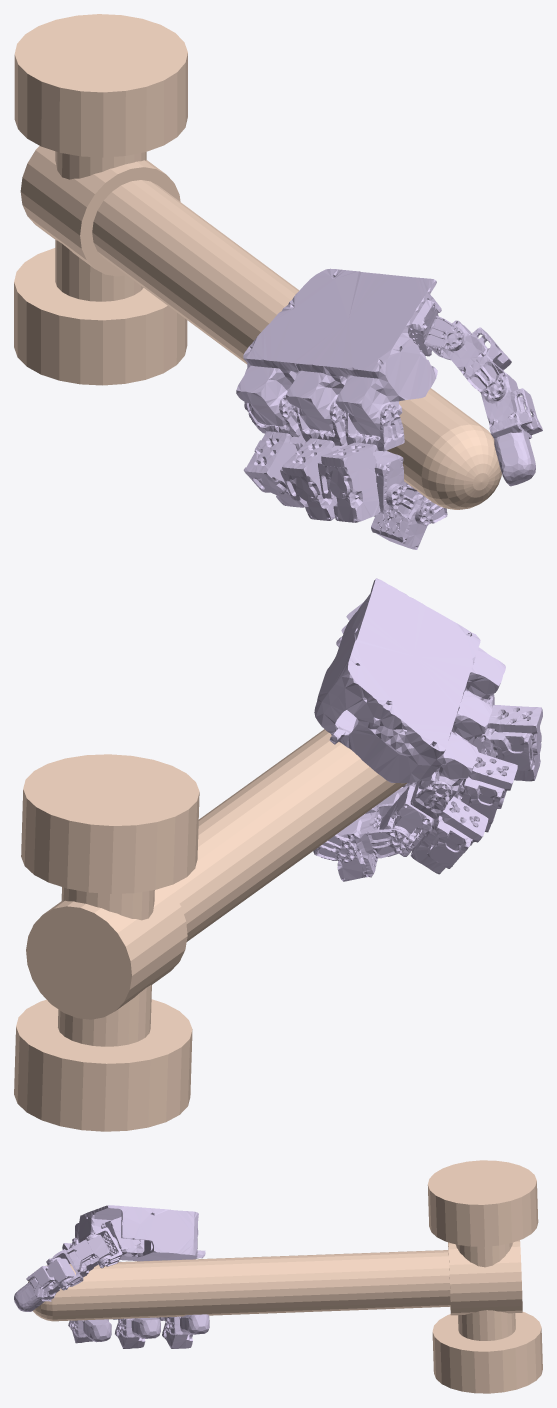
Rendered from 9e5eeed455ebeb-final.glb.
3 views of the same model, one above another, from view 1: azimuth 30°, elevation 25°; view 2: azimuth 150°, elevation 25°; view 3: azimuth 270°, elevation 25° (orthographic). The views are drawn at different scales.
Visible parts, largest first — view 1: world, LEAP_hand; view 2: world, LEAP_hand; view 3: world, LEAP_hand.
Part boxes in pixels (<box>): world: <box>14,14,501,509</box>; LEAP_hand: <box>236,268,542,549</box>; world: <box>14,729,406,1131</box>; LEAP_hand: <box>313,578,542,881</box>; world: <box>28,1160,542,1393</box>; LEAP_hand: <box>14,1205,209,1348</box>.
Size of the model in its own units: 0.1515 by 0.2197 by 0.5523.
